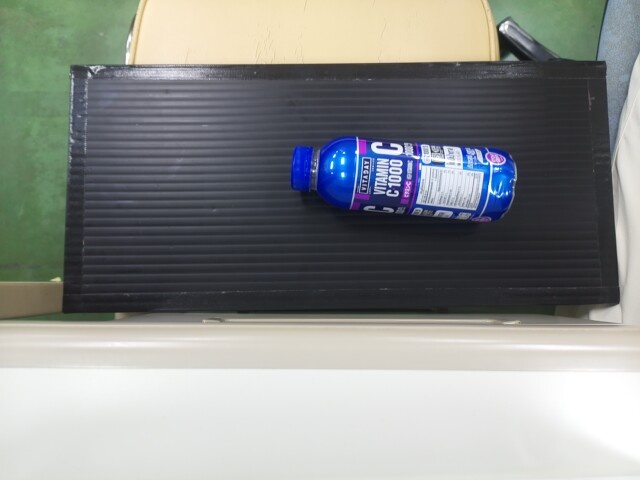plastic_bottle: (288, 134, 516, 221)
